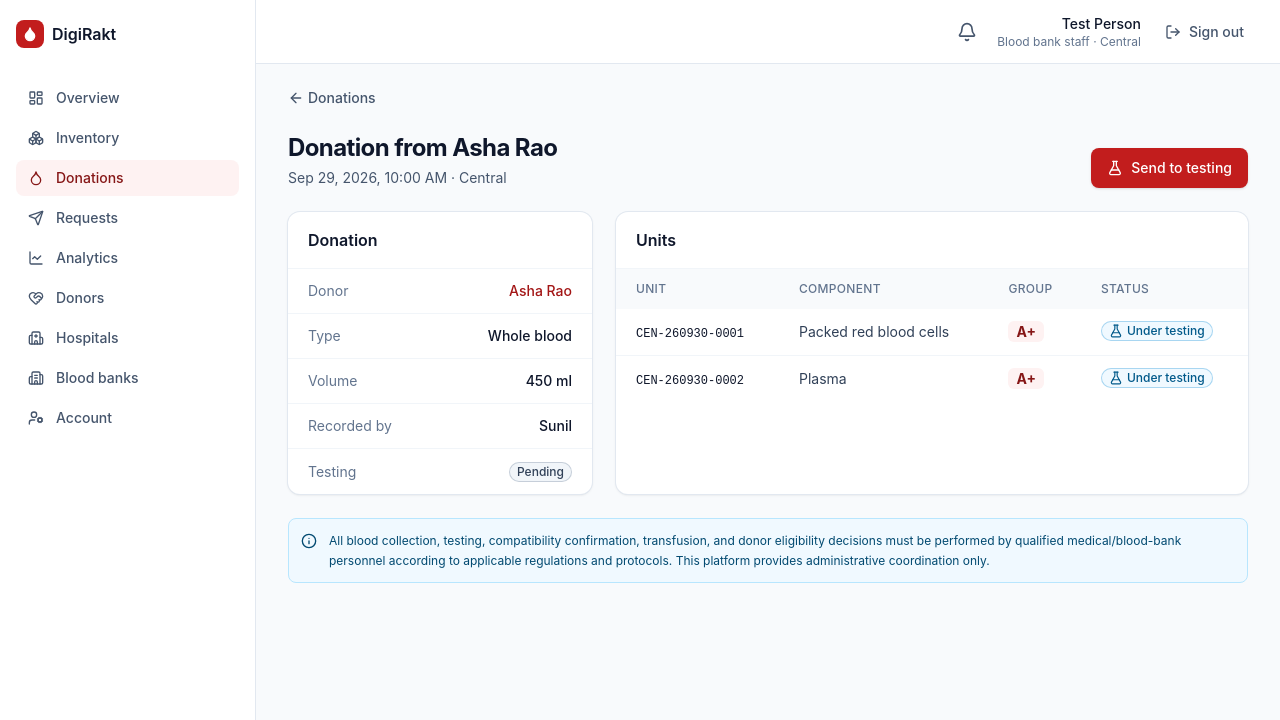
Test: testing a donation › sends collected units to testing
Step 1. Click the button "Send to testing" → (1170, 168), box [1091,148,1248,188]
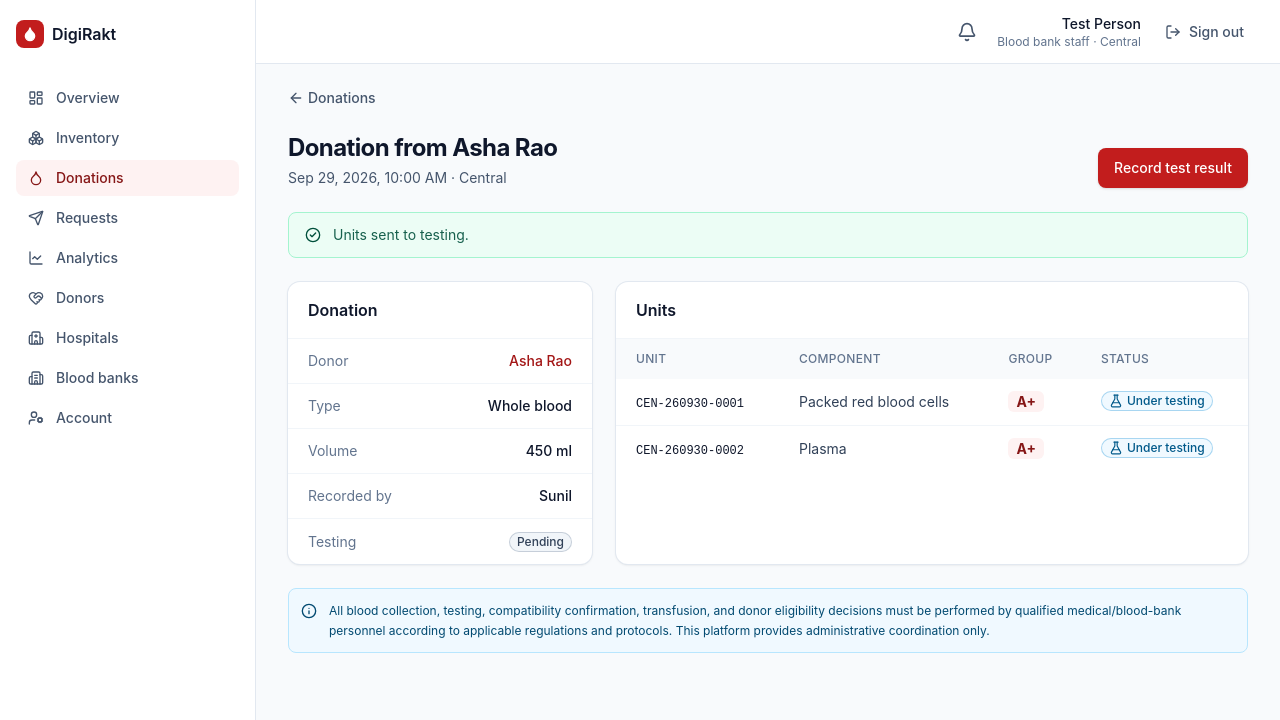
Expected: the text "Units sent to testing." is shown, [333,226,469,243]
